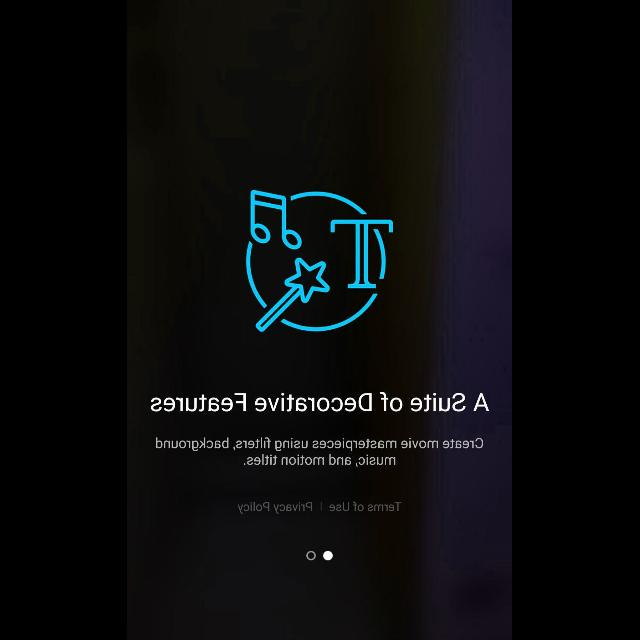image: (245, 190, 395, 332)
pageindicator: (306, 550, 334, 562)
text: (157, 438, 485, 468), (151, 392, 491, 414), (238, 500, 314, 514), (330, 501, 404, 514)
